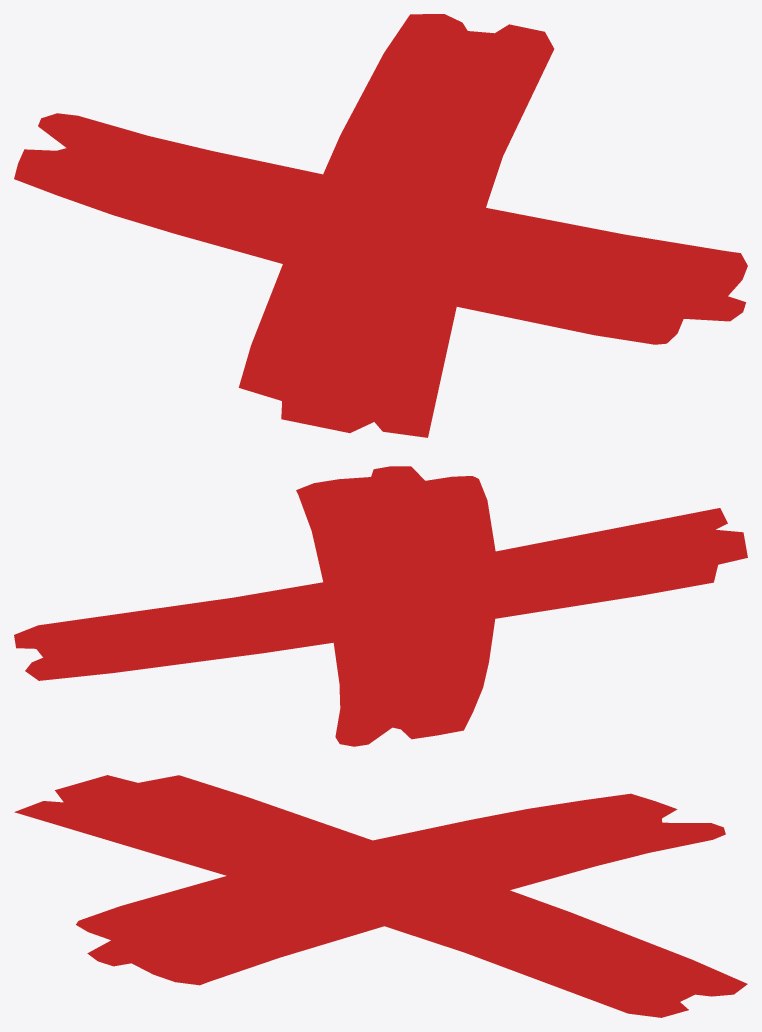
File: cross_mark.fbx
3 views of the same model, one above another, from view 1: azimuth 30°, elevation 25°; view 2: azimuth 150°, elevation 25°; view 3: azimuth 270°, elevation 25° (orthographic). The views are drawn at different scales.
Visible parts, largest first — view 1: cross_mark; view 2: cross_mark; view 3: cross_mark.
Part boxes in pixels (x1=…): cross_mark: x1=14, y1=14, x2=747, y2=437; cross_mark: x1=14, y1=466, x2=747, y2=746; cross_mark: x1=14, y1=775, x2=747, y2=1017.
Size of the model in its own units: 31.42 by 0 by 40.13.
